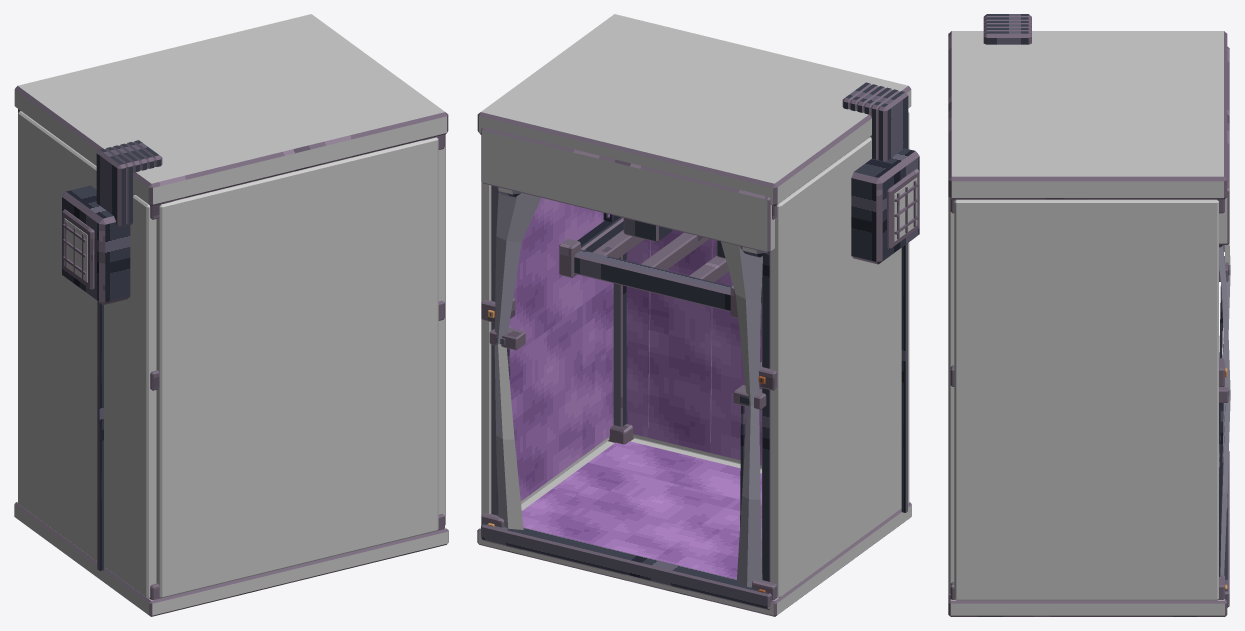
File: tent_3_body.obj
The picture shows the model from 3 angles, left to right: view 1: azimuth 30°, elevation 25°; view 2: azimuth 150°, elevation 25°; view 3: azimuth 270°, elevation 25°; orthographic projection.
Visible parts, largest first — view 1: model; view 2: model; view 3: model.
Part boxes in pixels (x1,y1,x2,y2): model: (14,14,448,616); model: (477,14,919,616); model: (948,14,1230,616).
Bounding box in the file's own units: 2.03 × 2.56 × 1.45.
